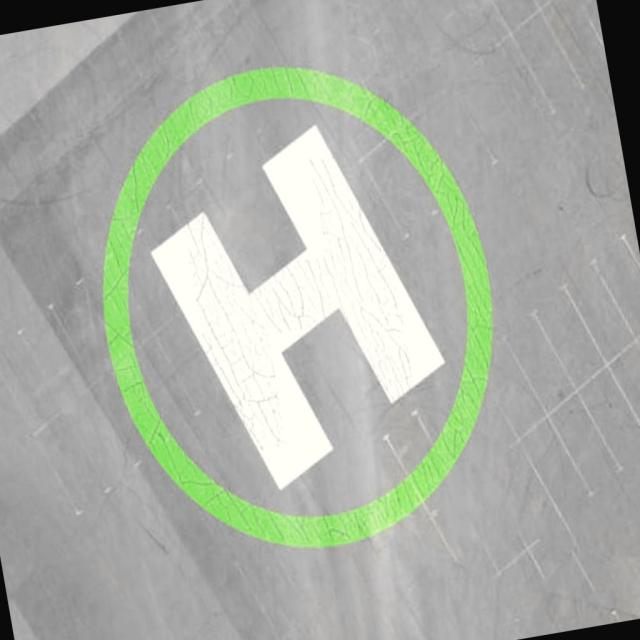helipad: (96, 60, 498, 549)
